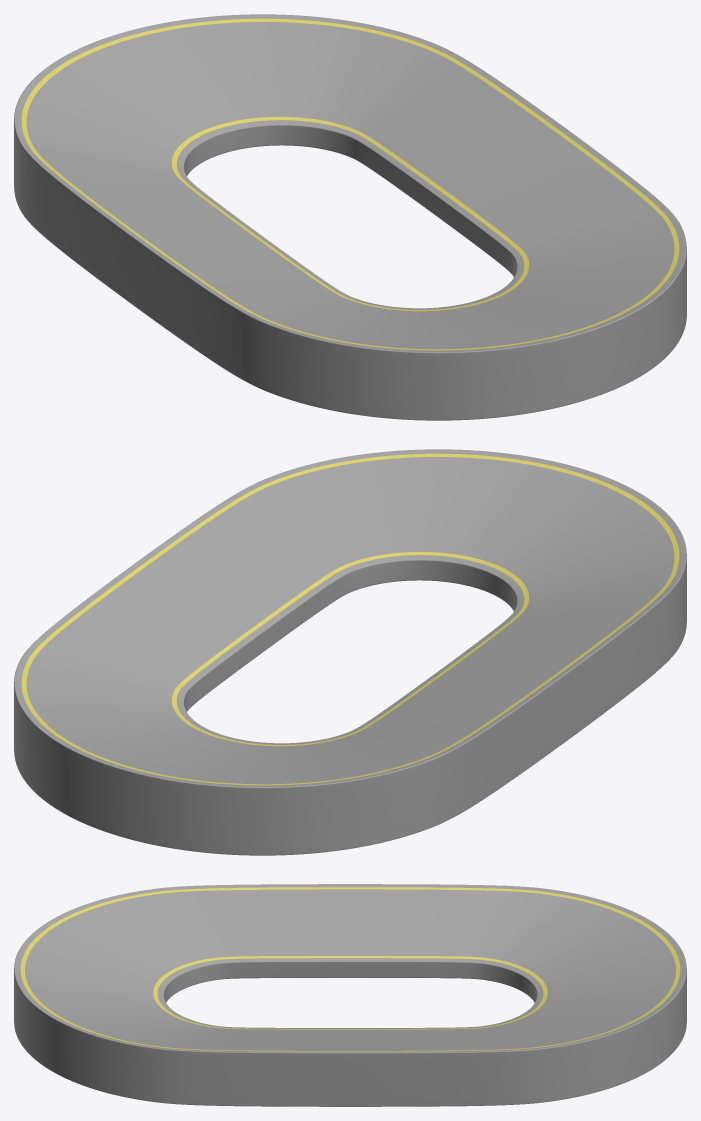
Rendered from Ph_Circuit_Court.fbx.
The picture shows the model from 3 angles, top to bottom: view 1: azimuth 30°, elevation 25°; view 2: azimuth 150°, elevation 25°; view 3: azimuth 270°, elevation 25°; orthographic projection. The views are drawn at different scales.
Parts seen in each view (by area): view 1: polySurface5; view 2: polySurface5; view 3: polySurface5.
Part boxes in pixels (<box>): polySurface5: <box>14,14,686,420</box>; polySurface5: <box>14,449,686,855</box>; polySurface5: <box>14,884,686,1106</box>.
Size of the model in its own units: 2 by 0.2977 by 3.36.
